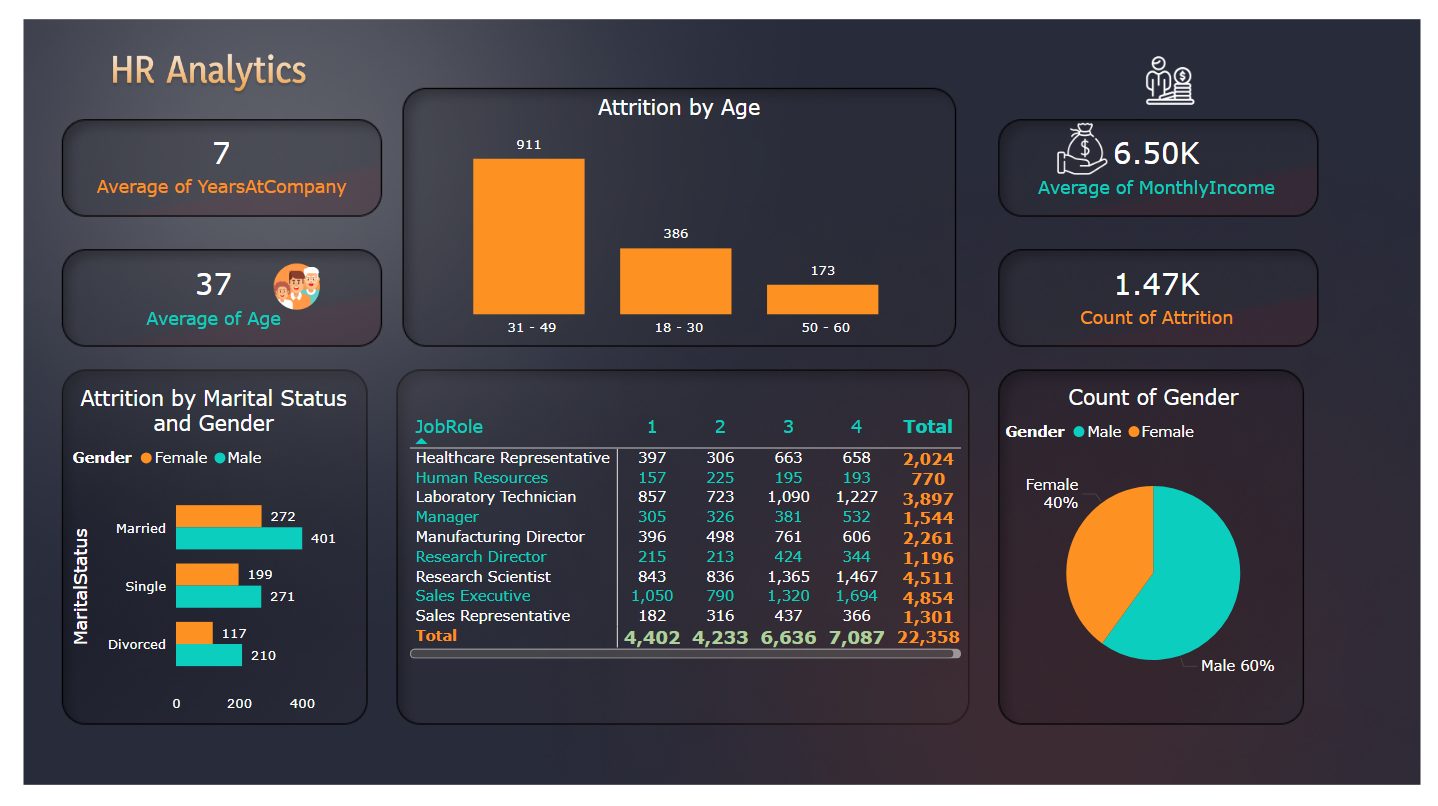

The page's visual inventory and layout, read from the dashboard file:
{"tool":"powerbi","page":{"name":"Homepage","canvas":[1280,720],"ordinal":0},"visuals":[{"type":"image","box":[0,0,1279.7,720],"z":0},{"type":"card","fields":{"Values":["CountNonNull(HR-Employee-Attrition.Attrition)"]},"box":[892.8,216.7,284.8,92.2],"z":1000},{"type":"card","fields":{"Values":["Avg(HR-Employee-Attrition.MonthlyIncome)"]},"box":[911.6,96.7,246.3,94.9],"z":2000},{"type":"card","fields":{"Values":["Avg(HR-Employee-Attrition.Age)"]},"box":[86,226.6,182.7,73.4],"z":3000},{"type":"card","fields":{"Values":["Avg(HR-Employee-Attrition.YearsAtCompany)"]},"box":[60,103,249.9,81.5],"z":4000},{"type":"pieChart","title":"Count of Gender ","fields":{"Category":["HR-Employee-Attrition.Gender"],"Y":["CountNonNull(HR-Employee-Attrition.Gender)"]},"box":[885.7,343.9,281.2,307.2],"z":5000},{"type":"clusteredBarChart","title":" Attrition by Marital Status and Gender","fields":{"Category":["HR-Employee-Attrition.MaritalStatus"],"Y":["CountNonNull(HR-Employee-Attrition.Attrition)"],"Series":["HR-Employee-Attrition.Gender"]},"box":[44.1,344.1,266.2,307.4],"z":6000},{"type":"pivotTable","fields":{"Rows":["HR-Employee-Attrition.JobRole"],"Columns":["HR-Employee-Attrition.JobSatisfaction"],"Values":["Sum(HR-Employee-Attrition.PercentSalaryHike)"]},"box":[356,367.7,506.7,231.5],"z":7000},{"type":"columnChart","title":" Attrition by Age","fields":{"Category":["HR-Employee-Attrition.Age (groups)"],"Y":["CountNonNull(HR-Employee-Attrition.Attrition)"]},"box":[355.5,79.7,490.7,229.3],"z":8000},{"type":"image","box":[78.8,37.6,189.9,65.4],"z":9000},{"type":"image","box":[938.7,97.3,57.3,64],"z":10000},{"type":"image","box":[225.5,228.7,55.3,52.1],"z":11000},{"type":"image","box":[1009.9,38,74.6,59.2],"z":12000}]}

Visuals, with their boxes in screenshot pixels (x1, y1, x2, y2), scaled from the page's 1280x720 canvas onto the 1438x806 screenshot:
image: <region>0, 0, 1437, 805</region>
card - CountNonNull(HR-Employee-Attrition.Attrition): <region>1003, 243, 1323, 346</region>
card - Avg(HR-Employee-Attrition.MonthlyIncome): <region>1024, 108, 1301, 214</region>
card - Avg(HR-Employee-Attrition.Age): <region>97, 254, 302, 336</region>
card - Avg(HR-Employee-Attrition.YearsAtCompany): <region>67, 115, 348, 207</region>
"Count of Gender " pieChart: <region>995, 385, 1311, 729</region>
" Attrition by Marital Status and Gender" clusteredBarChart: <region>50, 385, 349, 729</region>
pivotTable - HR-Employee-Attrition.JobRole x HR-Employee-Attrition.JobSatisfaction: <region>400, 412, 969, 671</region>
" Attrition by Age" columnChart: <region>399, 89, 951, 346</region>
image: <region>89, 42, 302, 115</region>
image: <region>1055, 109, 1119, 181</region>
image: <region>253, 256, 315, 314</region>
image: <region>1135, 43, 1218, 109</region>
